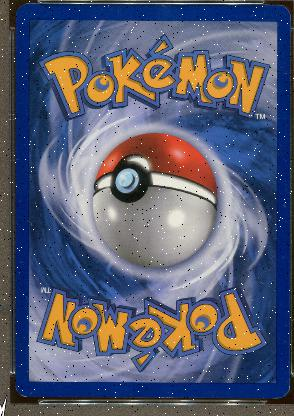Card: (13, 0, 291, 402)
Corner Wear: (268, 384, 289, 398), (14, 383, 28, 397)
Scratch: (255, 280, 263, 286), (281, 200, 286, 208), (26, 221, 32, 227), (16, 260, 23, 264), (267, 266, 271, 272), (158, 3, 164, 7), (280, 70, 286, 74), (34, 201, 37, 209), (23, 295, 28, 299), (246, 378, 251, 382), (46, 268, 52, 271), (276, 150, 279, 156), (210, 392, 214, 396), (276, 142, 280, 146), (272, 236, 275, 240), (18, 271, 21, 275), (17, 200, 20, 202), (272, 289, 274, 291)
